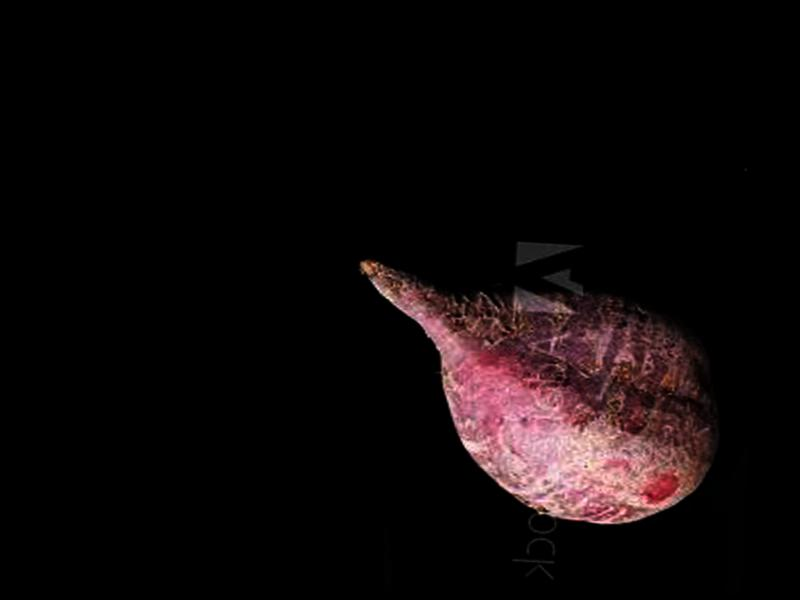Beet: (345, 261, 724, 532)
